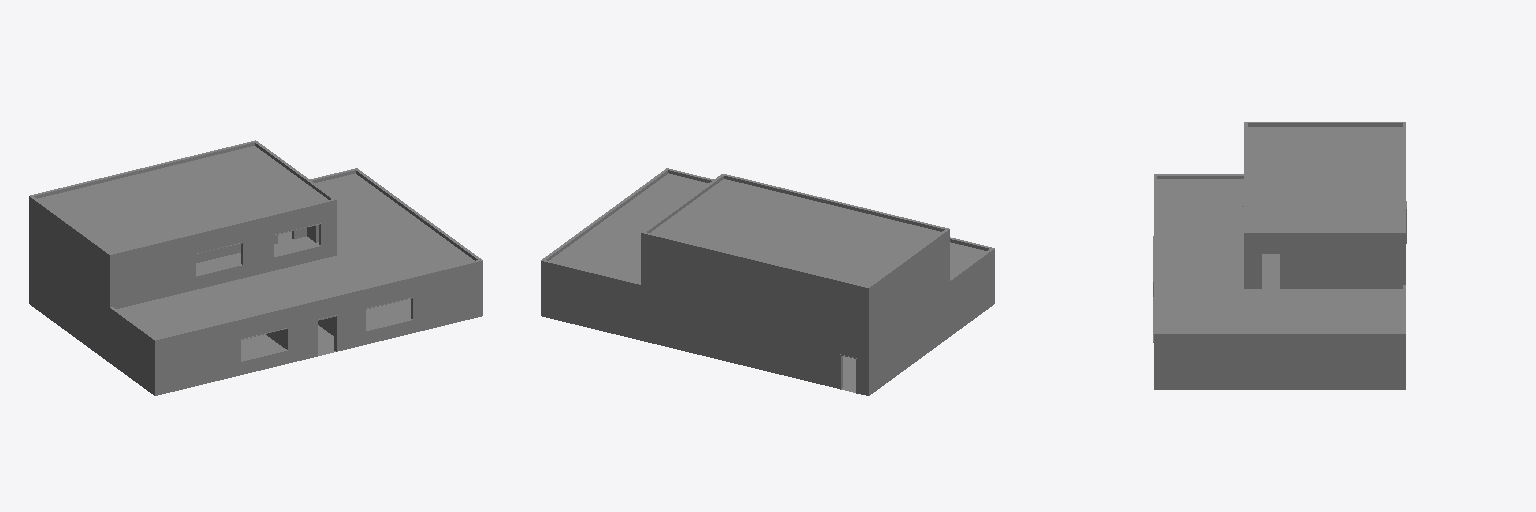
The model's file is building.obj.
3 renders of one model, left to right at view 1: azimuth 30°, elevation 25°; view 2: azimuth 150°, elevation 25°; view 3: azimuth 270°, elevation 25°, orthographic.
Visible parts, largest first — view 1: default; view 2: default; view 3: default.
Part boxes in pixels (x1,y1,x2,y2): default: (29,140,482,395); default: (541,168,994,395); default: (1153,122,1406,389).
Bounding box in the file's own units: 204 × 64.23 × 137.